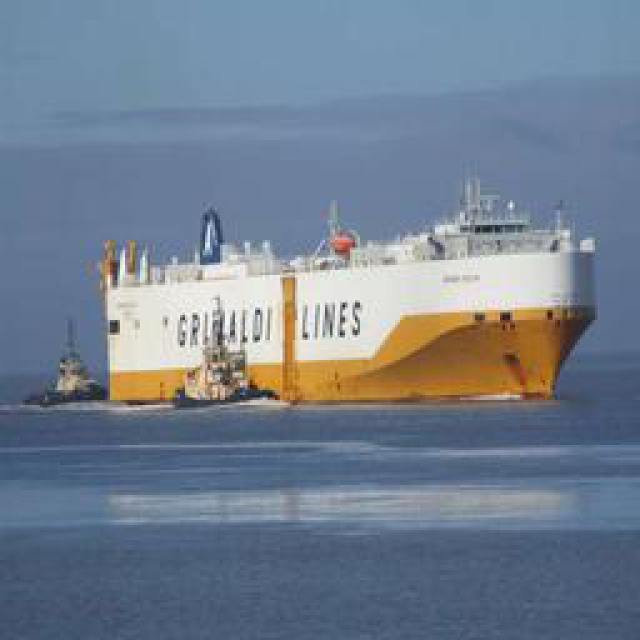Ship: (81, 181, 596, 404)
